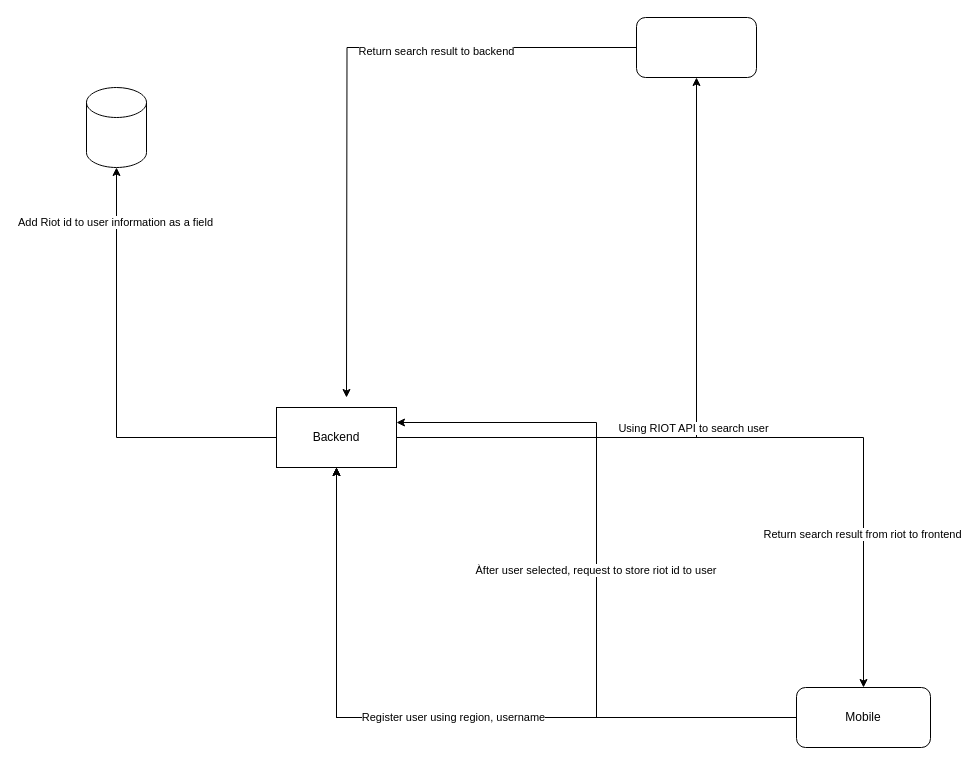
The diagram is 978 pixels wide and 765 high, and some of its shapes have lost their labels. Each missing label, with the centre of its shape:
"DB" goes at point 116,127.
"Riot API" goes at point 696,47.
